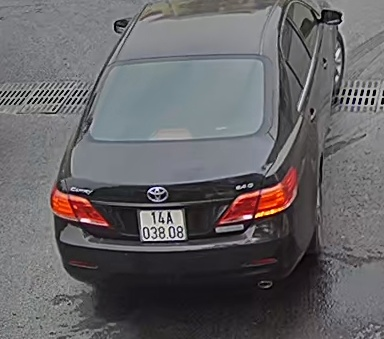vehicle plate: (134, 205, 188, 242)
